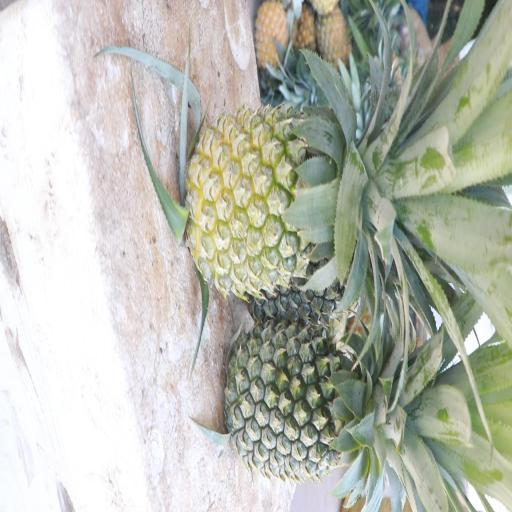Pineapple - v8 v1: (186, 111, 372, 295), (251, 0, 289, 73)
